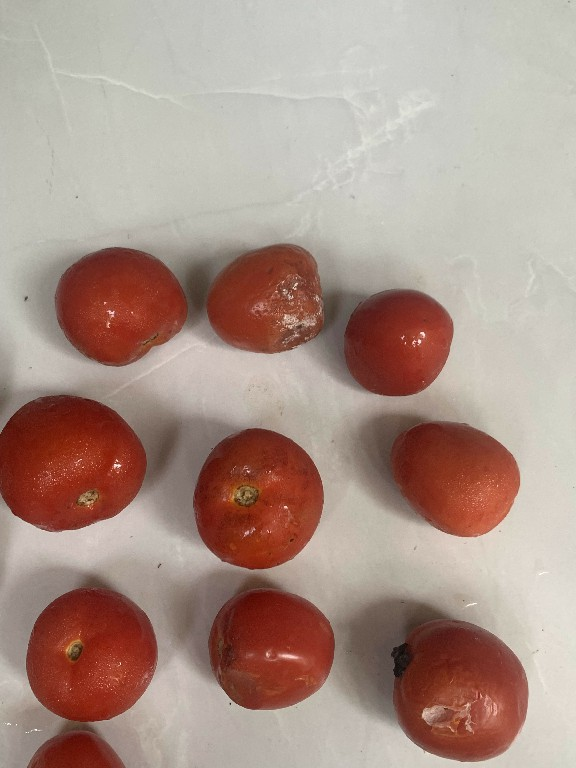NG: (378, 607, 536, 768), (184, 423, 330, 573), (193, 580, 340, 716), (199, 238, 328, 353)
OK: (2, 382, 152, 547), (19, 580, 171, 733), (41, 227, 192, 374), (386, 406, 538, 546), (336, 278, 460, 411)
